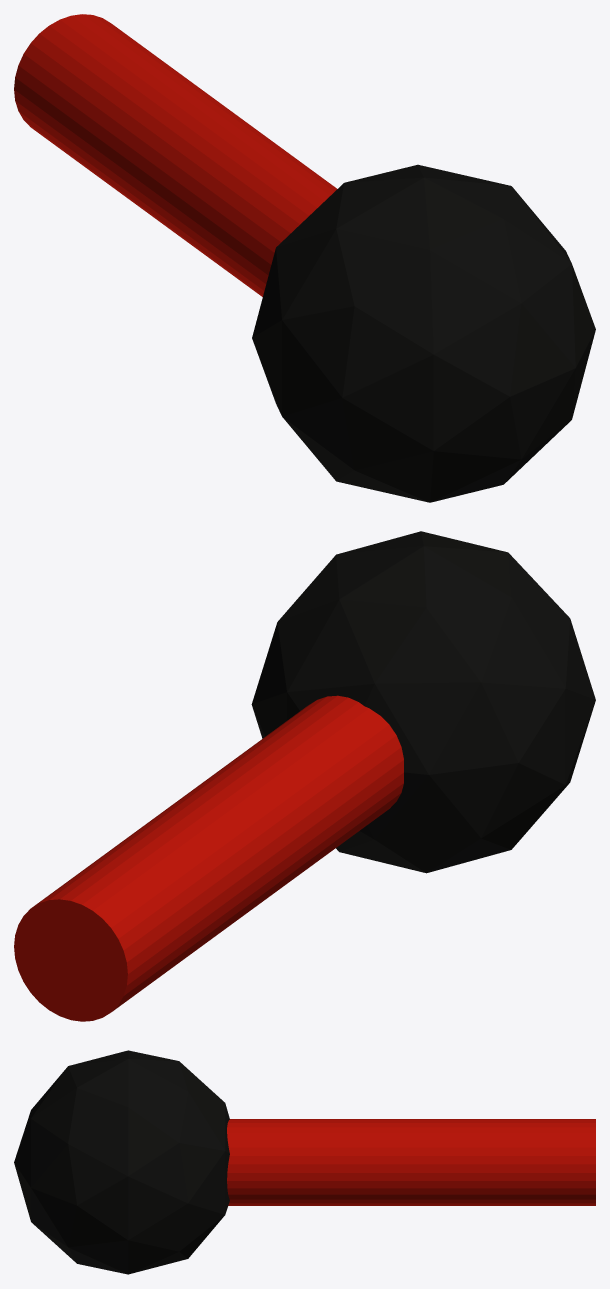
Rendered from joystick.obj.
3 renders of one model, top to bottom at view 1: azimuth 30°, elevation 25°; view 2: azimuth 150°, elevation 25°; view 3: azimuth 270°, elevation 25°, orthographic. The views are drawn at different scales.
Visible parts, largest first — view 1: Icosphere; view 2: Icosphere; view 3: Icosphere.
Boxes of the visible parts, x1,y1,x2,y2 form: Icosphere: [14, 14, 595, 502]; Icosphere: [14, 531, 595, 1021]; Icosphere: [14, 1050, 595, 1274].
Size of the model in its own units: 2.03 by 2.13 by 5.43.
2 materials, 2 textured.
